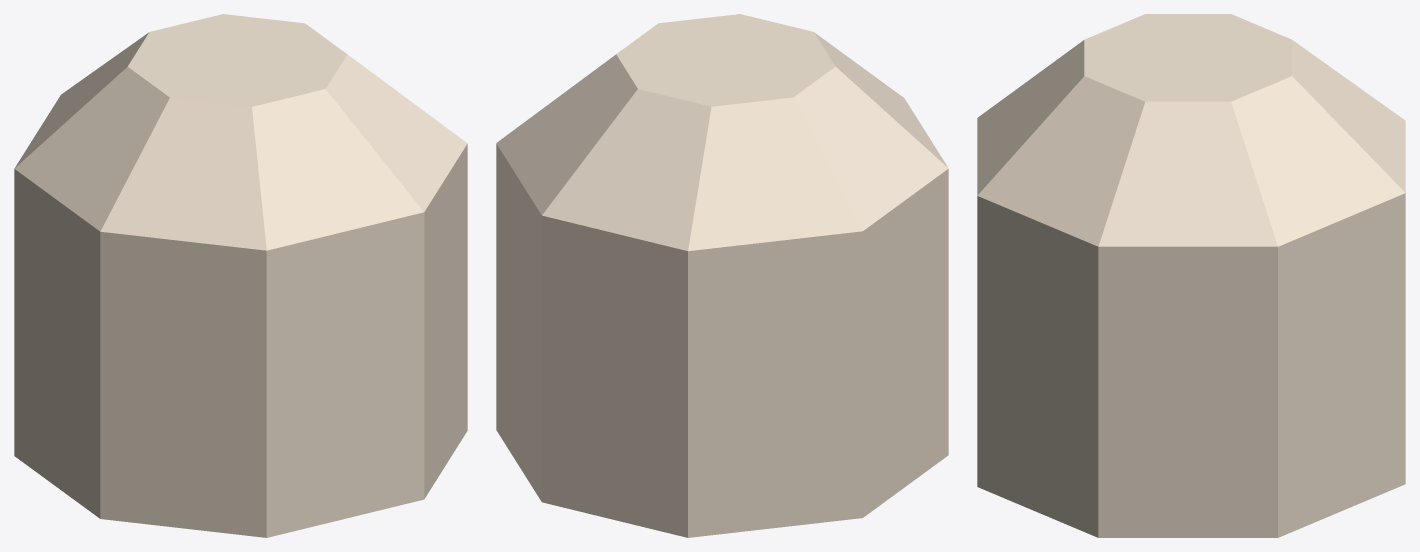
The model's file is Wall_End_Coping.glb.
3 renders of one model, left to right at view 1: azimuth 30°, elevation 25°; view 2: azimuth 150°, elevation 25°; view 3: azimuth 270°, elevation 25°, orthographic.
Parts seen in each view (by area): view 1: Wall_End_Coping; view 2: Wall_End_Coping; view 3: Wall_End_Coping.
Boxes of the visible parts, x1,y1,x2,y2 form: Wall_End_Coping: (14,14,467,537); Wall_End_Coping: (496,14,948,537); Wall_End_Coping: (977,14,1405,537).
Bounding box in the file's own units: 0.09 × 0.09 × 0.09.
